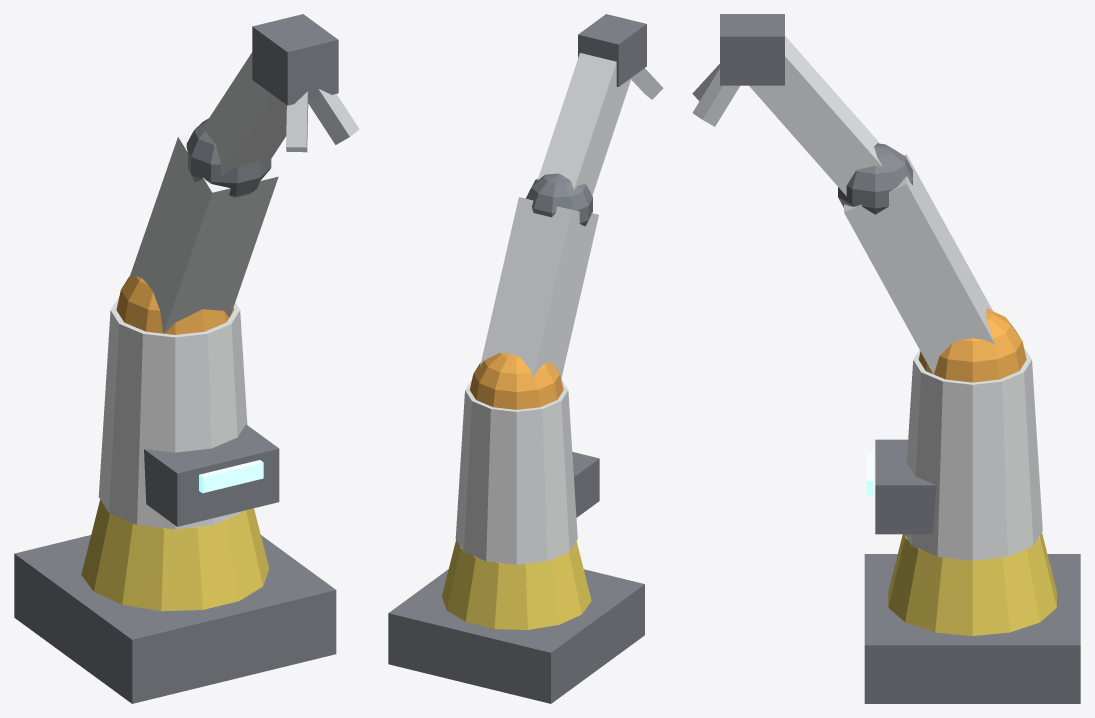
File: robot-arm-bench.glb
3 renders of one model, left to right at view 1: azimuth 30°, elevation 25°; view 2: azimuth 150°, elevation 25°; view 3: azimuth 270°, elevation 25°, orthographic. The views are drawn at different scales.
Parts seen in each view (by area): view 1: robot-arm-bench, arm-main/shell, arm-main/graphite, arm-main/orange, arm-main/steel; view 2: robot-arm-bench, arm-main/shell, arm-main/graphite, arm-main/orange, arm-main/steel; view 3: robot-arm-bench, arm-main/shell, arm-main/graphite, arm-main/orange, arm-main/steel.
Part boxes in pixels (x1,y1,x2,y2): robot-arm-bench: (14, 296, 336, 703); arm-main/shell: (129, 52, 286, 333); arm-main/graphite: (186, 14, 338, 197); arm-main/orange: (116, 275, 234, 334); arm-main/steel: (286, 89, 359, 152); robot-arm-bench: (388, 379, 644, 703); arm-main/shell: (480, 53, 631, 379); arm-main/graphite: (526, 14, 646, 226); arm-main/orange: (470, 352, 563, 409); arm-main/steel: (631, 68, 663, 99); robot-arm-bench: (864, 347, 1080, 703); arm-main/shell: (749, 36, 995, 374); arm-main/graphite: (720, 14, 912, 214); arm-main/orange: (918, 309, 1026, 382); arm-main/steel: (692, 64, 739, 126).
Size of the model in its own units: 0.4 by 1.29 by 0.7189.
